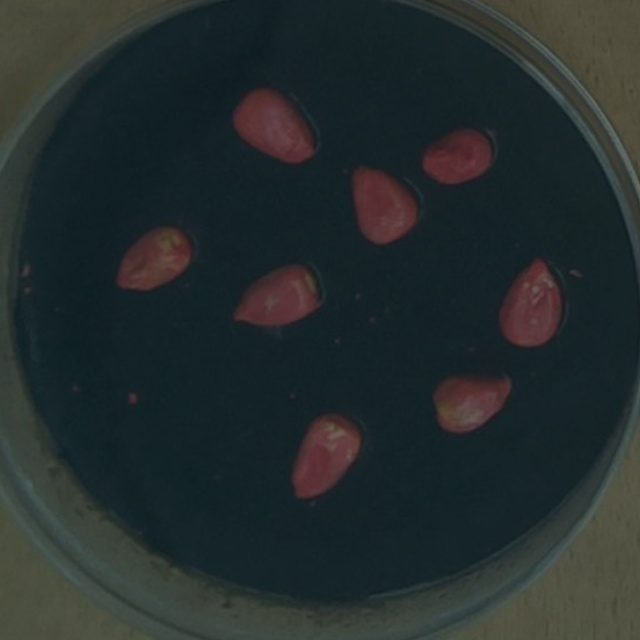Zea mays: (223, 78, 323, 170), (281, 402, 368, 506), (224, 253, 328, 333), (490, 246, 567, 354), (342, 157, 426, 251), (108, 216, 200, 295), (422, 364, 520, 438), (412, 118, 499, 191)
